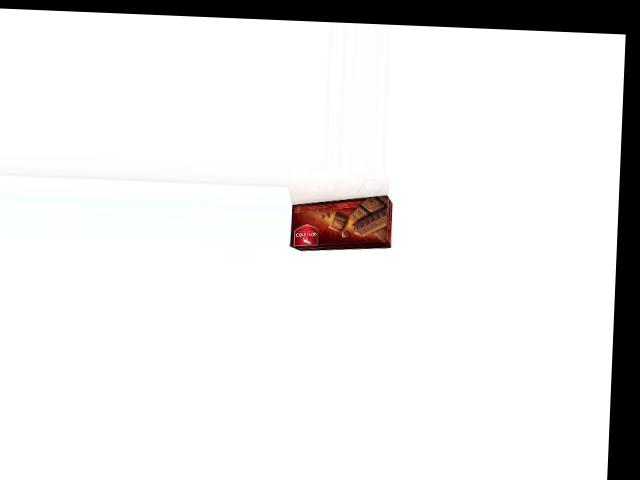chocolate: (289, 189, 391, 255)
